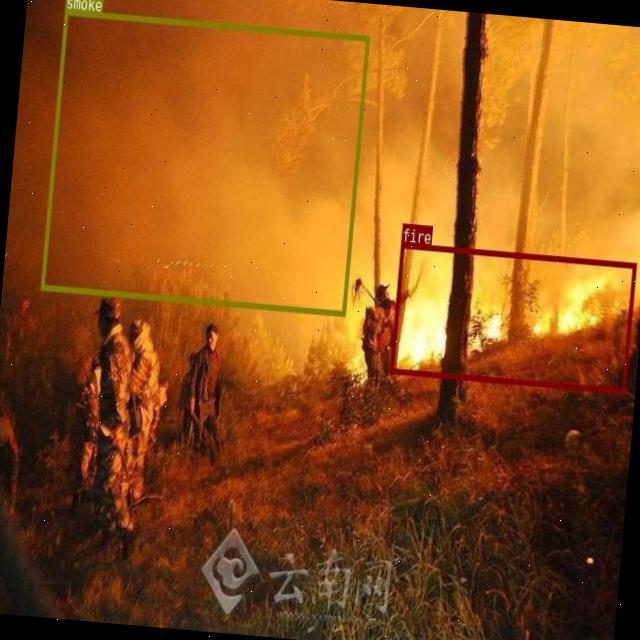fire: (389, 241, 636, 393)
smoke: (40, 8, 369, 314)
